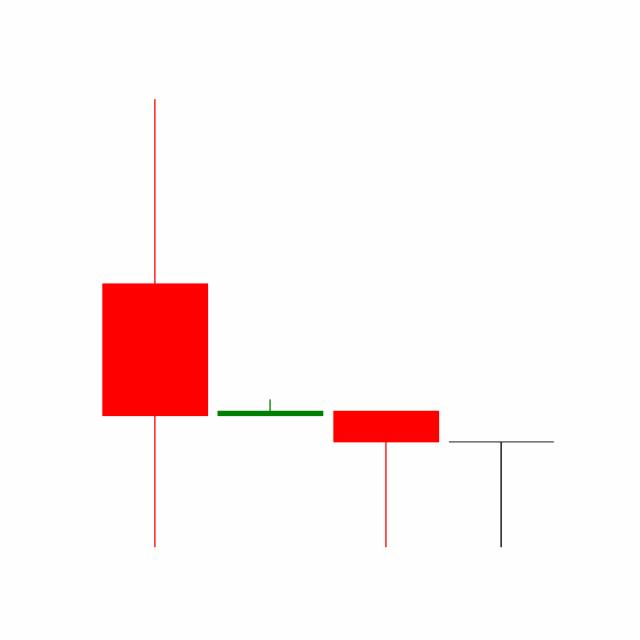Hammer: (328, 408, 444, 548)
